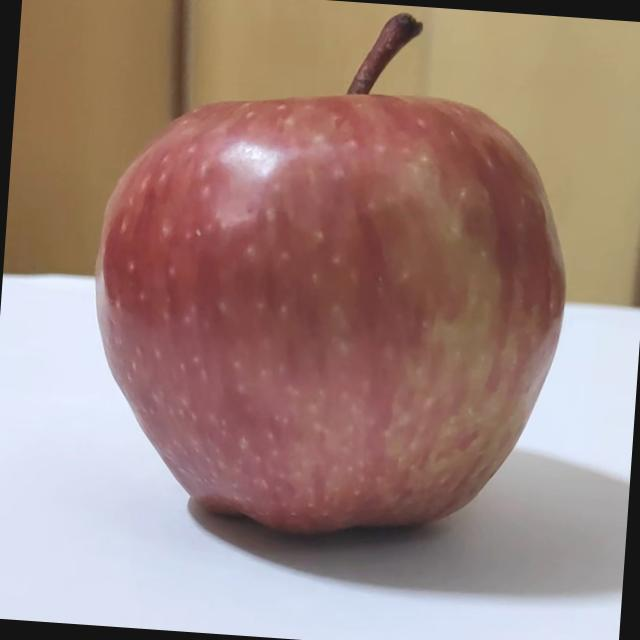apple: (69, 0, 585, 567)
